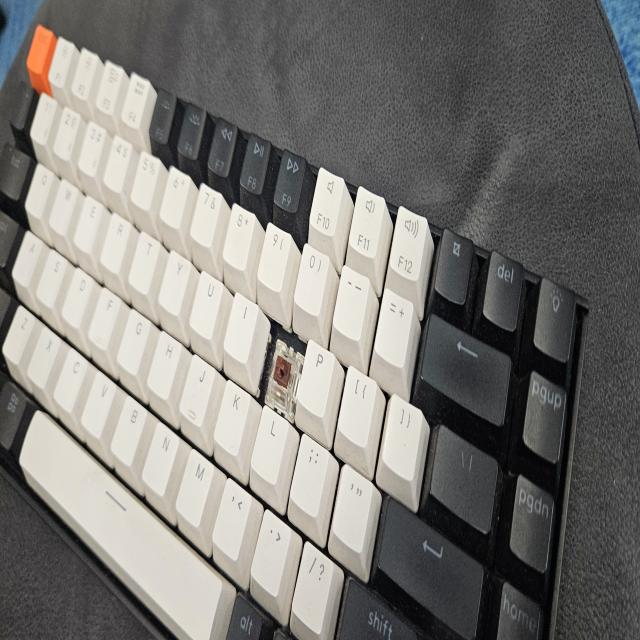C: (272, 342, 292, 404)
